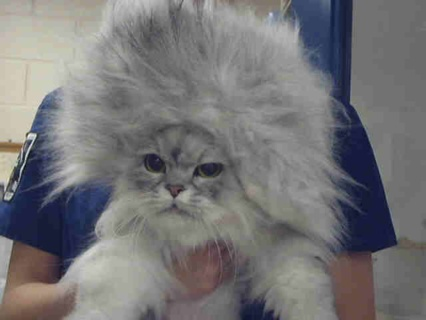Cat: (20, 0, 373, 320)
